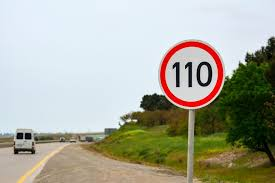Speed_limit_110km: (158, 39, 225, 109)
